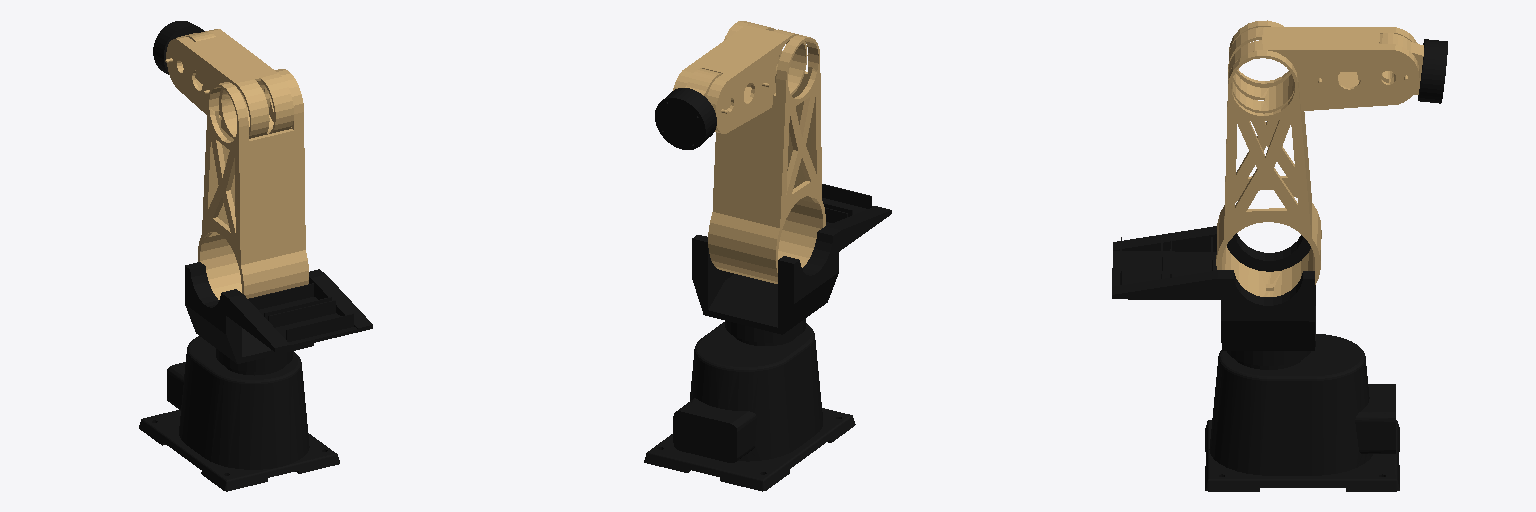
URDF robot description (robot_arm_urdf):
<?xml version="1.0" encoding="utf-8"?>
<!-- This URDF was automatically created by SolidWorks to URDF Exporter! Originally created by [author] ([email redacted]) 
     Commit Version: 1.6.0-4-g7f85cfe  Build Version: 1.6.7995.38578
     For more information, please see http://wiki.ros.org/sw_urdf_exporter -->
<robot
  name="robot_arm_urdf">
  
  <link name="world"/>
  <joint name="base_joint" type="fixed">
	<parent link="world"/>
	<child link="base_link"/>
	<origin rpy="0 0 0" xyz="0.0 0.0 0.17"/>
  </joint>
  
  <link
    name="base_link">
    <inertial>
      <origin
        xyz="0.097626 0.062093 0.22842"
        rpy="0 0 0" />
      <mass
        value="3.5599" />
      <inertia
        ixx="0.019304"
        ixy="-5.9075E-10"
        ixz="-1.2193E-09"
        iyy="0.019916"
        iyz="0.00018367"
        izz="0.012646" />
    </inertial>
    <visual>
      <origin
        xyz="0 0 0"
        rpy="0 0 0" />
      <geometry>
        <mesh
          filename="package://robot_arm_urdf/meshes/base_link.STL" />
      </geometry>
      <material
        name="">
        <color
          rgba="0.12157 0.12157 0.12157 1" />
      </material>
    </visual>
    <collision>
      <origin
        xyz="0 0 0"
        rpy="0 0 0" />
      <geometry>
        <mesh
          filename="package://robot_arm_urdf/meshes/base_link.STL" />
      </geometry>
    </collision>
  </link>
  <link
    name="link_1">
    <inertial>
      <origin
        xyz="-0.019755 4.3993E-15 0.077605"
        rpy="0 0 0" />
      <mass
        value="1.375" />
      <inertia
        ixx="0.0056845"
        ixy="6.1359E-17"
        ixz="0.0016247"
        iyy="0.00679"
        iyz="-1.2643E-16"
        izz="0.0073809" />
    </inertial>
    <visual>
      <origin
        xyz="0 0 0"
        rpy="0 0 0" />
      <geometry>
        <mesh
          filename="package://robot_arm_urdf/meshes/link_1.STL" />
      </geometry>
      <material
        name="">
        <color
          rgba="0.12157 0.12157 0.12157 1" />
      </material>
    </visual>
    <collision>
      <origin
        xyz="0 0 0"
        rpy="0 0 0" />
      <geometry>
        <mesh
          filename="package://robot_arm_urdf/meshes/link_1.STL" />
      </geometry>
    </collision>
  </link>
  <joint
    name="joint_1"
    type="revolute">
    <origin
      xyz="0.097626 -0.27119 0.1327"
      rpy="0 0 1.5613" />
    <parent
      link="base_link" />
    <child
      link="link_1" />
    <axis
      xyz="0 0 1" />
    <limit
      lower="0"
      upper="3.142"
      effort="300"
      velocity="3" />
  </joint>
  <link
    name="link_2">
    <inertial>
      <origin
        xyz="0.086535 1.3548E-08 -0.002"
        rpy="0 0 0" />
      <mass
        value="0.63532" />
      <inertia
        ixx="0.0020892"
        ixy="-7.3508E-11"
        ixz="-6.9351E-19"
        iyy="0.006396"
        iyz="4.7773E-19"
        izz="0.0068078" />
    </inertial>
    <visual>
      <origin
        xyz="0 0 0"
        rpy="0 0 0" />
      <geometry>
        <mesh
          filename="package://robot_arm_urdf/meshes/link_2.STL" />
      </geometry>
      <material
        name="">
        <color
          rgba="0.82745 0.69804 0.4902 1" />
      </material>
    </visual>
    <collision>
      <origin
        xyz="0 0 0"
        rpy="0 0 0" />
      <geometry>
        <mesh
          filename="package://robot_arm_urdf/meshes/link_2.STL" />
      </geometry>
    </collision>
  </link>
  <joint
    name="joint_2"
    type="revolute">
    <origin
      xyz="0 0 0.16671"
      rpy="-1.5708 -1.5434 3.1416" />
    <parent
      link="link_1" />
    <child
      link="link_2" />
    <axis
      xyz="0 0 1" />
    <limit
      lower="-1.57"
      upper="1.57"
      effort="200"
      velocity="3" />
  </joint>
  <link
    name="link_3">
    <inertial>
      <origin
        xyz="0.09086 -2.2204E-16 6.9389E-17"
        rpy="0 0 0" />
      <mass
        value="0.58657" />
      <inertia
        ixx="0.00079015"
        ixy="5.8276E-18"
        ixz="8.627E-19"
        iyy="0.002143"
        iyz="-1.7152E-20"
        izz="0.0023438" />
    </inertial>
    <visual>
      <origin
        xyz="0 0 0"
        rpy="0 0 0" />
      <geometry>
        <mesh
          filename="package://robot_arm_urdf/meshes/link_3.STL" />
      </geometry>
      <material
        name="">
        <color
          rgba="0.82745 0.69804 0.4902 1" />
      </material>
    </visual>
    <collision>
      <origin
        xyz="0 0 0"
        rpy="0 0 0" />
      <geometry>
        <mesh
          filename="package://robot_arm_urdf/meshes/link_3.STL" />
      </geometry>
    </collision>
  </link>
  <joint
    name="joint_3"
    type="revolute">
    <origin
      xyz="0.25 0 0"
      rpy="3.1416 0 -1.5571" />
    <parent
      link="link_2" />
    <child
      link="link_3" />
    <axis
      xyz="0 0 1" />
    <limit
      lower="0"
      upper="3.142"
      effort="200"
      velocity="3" />
  </joint>
  <link
    name="link_4">
    <inertial>
      <origin
        xyz="0.00050485 2.2204E-16 0.0015"
        rpy="0 0 0" />
      <mass
        value="0.1502" />
      <inertia
        ixx="8.1788E-05"
        ixy="3.8116E-20"
        ixz="6.3527E-21"
        iyy="8.2469E-05"
        iyz="9.5821E-21"
        izz="0.00013749" />
    </inertial>
    <visual>
      <origin
        xyz="0 0 0"
        rpy="0 0 0" />
      <geometry>
        <mesh
          filename="package://robot_arm_urdf/meshes/link_4.STL" />
      </geometry>
      <material
        name="">
        <color
          rgba="0.82745 0.69804 0.4902 1" />
      </material>
    </visual>
    <collision>
      <origin
        xyz="0 0 0"
        rpy="0 0 0" />
      <geometry>
        <mesh
          filename="package://robot_arm_urdf/meshes/link_4.STL" />
      </geometry>
    </collision>
  </link>
  <joint
    name="joint_4"
    type="revolute">
    <origin
      xyz="0.16 0 0"
      rpy="-3.1416 0 0.15302" />
    <parent
      link="link_3" />
    <child
      link="link_4" />
    <axis
      xyz="0 0 1" />
    <limit
      lower="-1.57"
      upper="1.57"
      effort="200"
      velocity="3" />
  </joint>
  <link
    name="link_5">
    <inertial>
      <origin
        xyz="-3.3307E-16 2.498E-16 0.02691"
        rpy="0 0 0" />
      <mass
        value="0.14945" />
      <inertia
        ixx="7.1409E-05"
        ixy="-3.9175E-21"
        ixz="-4.1081E-20"
        iyy="7.1409E-05"
        iyz="1.7364E-20"
        izz="0.00012043" />
    </inertial>
    <visual>
      <origin
        xyz="0 0 0"
        rpy="0 0 0" />
      <geometry>
        <mesh
          filename="package://robot_arm_urdf/meshes/link_5.STL" />
      </geometry>
      <material
        name="">
        <color
          rgba="0.12157 0.12157 0.12157 1" />
      </material>
    </visual>
    <collision>
      <origin
        xyz="0 0 0"
        rpy="0 0 0" />
      <geometry>
        <mesh
          filename="package://robot_arm_urdf/meshes/link_5.STL" />
      </geometry>
    </collision>
  </link>
  <joint
    name="joint_5"
    type="revolute">
    <origin
      xyz="0.030136 0 0.0015"
      rpy="-1.5708 0.57462 -1.5708" />
    <parent
      link="link_4" />
    <child
      link="link_5" />
    <axis
      xyz="0 0 1" />
    <limit
      lower="0"
      upper="3.142"
      effort="200"
      velocity="3" />
  </joint>
  
  <transmission name="link_1_trans">
	<type>transmission_interface/SimpleTransmission</type>
	<joint name="joint_1">
		<hardwareInterface>hardware_interface/PositionJointInterface</hardwareInterface>
	</joint>
	<actuator name="link_1_motor">
		<hardwareInterface>hardware_interface/PositionJointInterface</hardwareInterface>
	        <mechanicalReduction>1</mechanicalReduction>
	</actuator>
  </transmission>  
  
  <transmission name="link_2_trans">
	<type>transmission_interface/SimpleTransmission</type>
	<joint name="joint_2">
		<hardwareInterface>hardware_interface/PositionJointInterface</hardwareInterface>
	</joint>
	<actuator name="link_2_motor">
		<hardwareInterface>hardware_interface/PositionJointInterface</hardwareInterface>
	    	<mechanicalReduction>1</mechanicalReduction>
	</actuator>
  </transmission>  
  
  <transmission name="link_3_trans">
	<type>transmission_interface/SimpleTransmission</type>
	<joint name="joint_3">
		<hardwareInterface>hardware_interface/PositionJointInterface</hardwareInterface>
	</joint>
	<actuator name="link_3_motor">
		<hardwareInterface>hardware_interface/PositionJointInterface</hardwareInterface>
	        <mechanicalReduction>1</mechanicalReduction>
	</actuator>
  </transmission>  
  
  <transmission name="link_4_trans">
	<type>transmission_interface/SimpleTransmission</type>
	<joint name="joint_4">
		<hardwareInterface>hardware_interface/PositionJointInterface</hardwareInterface>
	</joint>
	<actuator name="link_4_motor">
		<hardwareInterface>hardware_interface/PositionJointInterface</hardwareInterface>
	        <mechanicalReduction>1</mechanicalReduction>
	</actuator>
  </transmission>  
  
  <transmission name="link_5_trans">
	<type>transmission_interface/SimpleTransmission</type>
	<joint name="joint_5">
		<hardwareInterface>hardware_interface/PositionJointInterface</hardwareInterface>
	</joint>
	<actuator name="link_5_motor">
		<hardwareInterface>hardware_interface/PositionJointInterface</hardwareInterface>
	        <mechanicalReduction>1</mechanicalReduction>
	</actuator>
  </transmission>  
  
  <gazebo>
	<plugin name="control" filename="libgazebo_ros_control.so">
		<robotNamespace>/</robotNamespace>
	</plugin>
  </gazebo>
  
  <gazebo reference="link_1">
	<selfCollide>true</selfCollide>
  </gazebo>
  
  <gazebo reference="link_2">
	<selfCollide>true</selfCollide>
  </gazebo>
  
  <gazebo reference="link_3">
	<selfCollide>true</selfCollide>
  </gazebo>
  
  <gazebo reference="link_4">
	<selfCollide>true</selfCollide>
  </gazebo>
  
  <gazebo reference="link_5">
	<selfCollide>true</selfCollide>
  </gazebo>
  
</robot>

--- Render facts (derived) ---
The picture shows the robot from 3 angles, left to right: view 1: azimuth 30°, elevation 25°; view 2: azimuth 150°, elevation 25°; view 3: azimuth 270°, elevation 25°; orthographic projection.
Model robot_arm_urdf with 7 links and 6 joints (5 revolute, 1 fixed), rooted at world, posed every joint at zero.
Links seen in each view (by area): view 1: link_2, base_link, link_1, link_3, link_5; view 2: base_link, link_2, link_1, link_3, link_5, link_4; view 3: base_link, link_1, link_2, link_3, link_5, link_4.
Link boxes in pixels (x1,y1,x2,y2): link_2: [198, 69, 308, 299]; base_link: [139, 336, 339, 491]; link_1: [185, 262, 372, 375]; link_3: [165, 29, 293, 138]; link_5: [153, 21, 204, 74]; base_link: [644, 322, 855, 491]; link_2: [708, 21, 825, 283]; link_1: [692, 184, 891, 345]; link_3: [673, 23, 807, 133]; link_5: [655, 88, 716, 149]; link_4: [685, 68, 730, 108]; base_link: [1205, 334, 1399, 491]; link_1: [1112, 226, 1315, 369]; link_2: [1216, 20, 1321, 296]; link_3: [1228, 27, 1419, 113]; link_5: [1418, 39, 1447, 103]; link_4: [1357, 33, 1423, 94].
Bounding box of the posed robot: 0.19 × 0.4298 × 0.5962 m (x, y, z).
6 mesh visuals loaded from 6 distinct referenced files (6 binary STL).